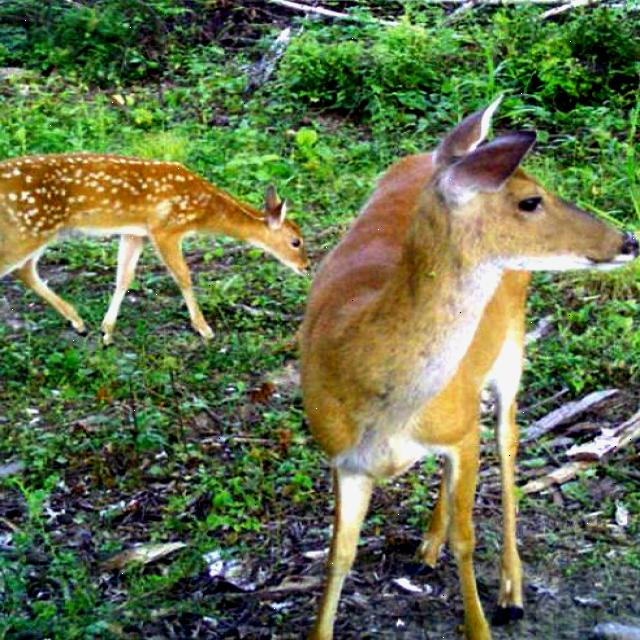deer: (318, 104, 634, 327), (212, 178, 309, 288)
